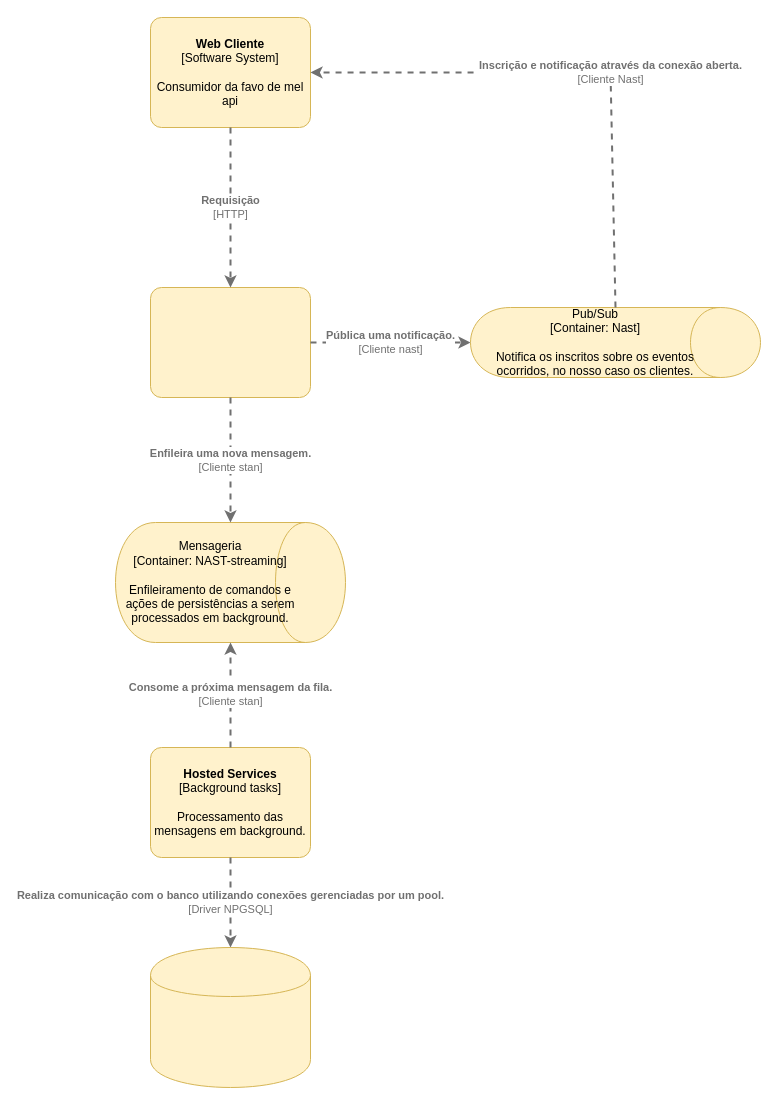
This 778x1105 diagram has some shape labels left out. The box of each missing label's shape, as (x1, y1, x2, y2) in pixels:
Database [Container: Postgres] Persistência das informações: (150, 946, 310, 1088)
Favo de mel Api [Software System] Description: (150, 286, 310, 398)
